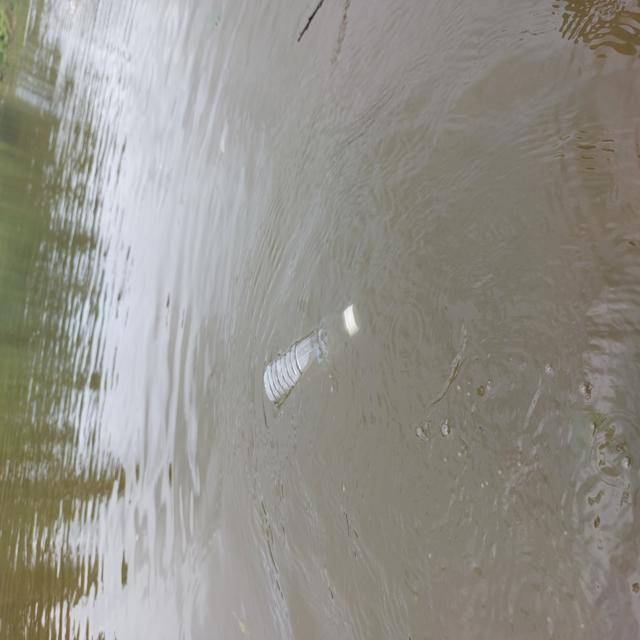waterbottle: (237, 289, 364, 413)
